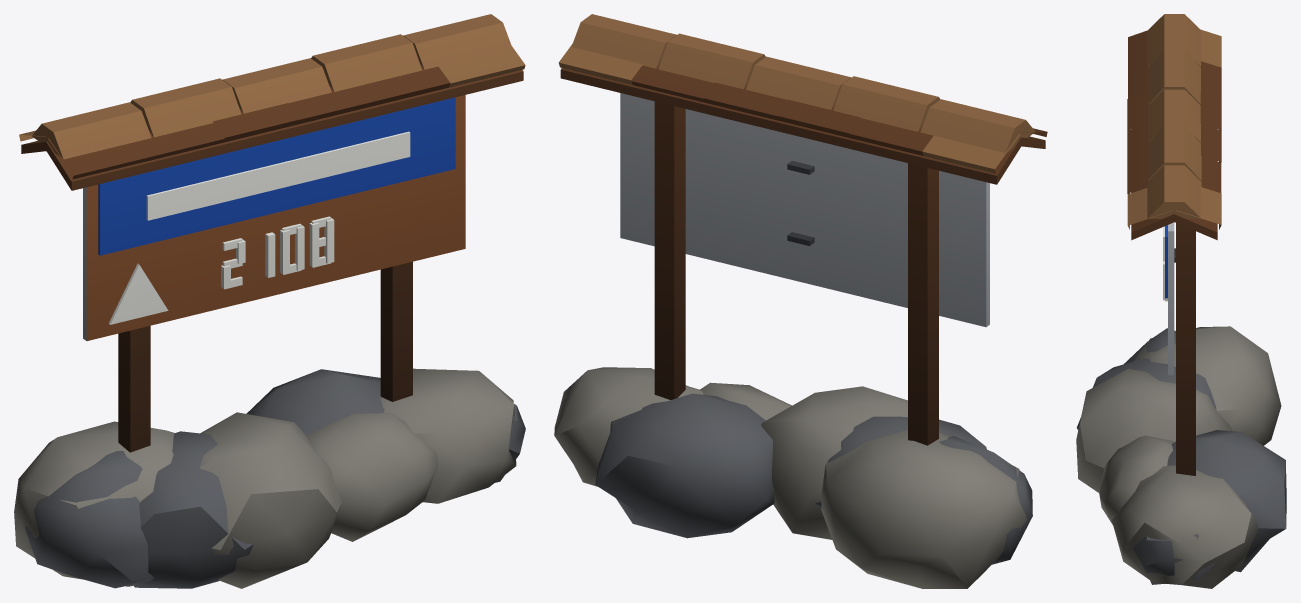
Rendered from Pass_Sign.fbx.
3 renders of one model, left to right at view 1: azimuth 30°, elevation 25°; view 2: azimuth 150°, elevation 25°; view 3: azimuth 270°, elevation 25°, orthographic. The views are drawn at different scales.
Parts seen in each view (by area): view 1: Pass_Sign_LOD0; view 2: Pass_Sign_LOD0; view 3: Pass_Sign_LOD0.
Boxes of the visible parts, left/top/right/bottom form: Pass_Sign_LOD0: left=14, top=14, right=525, bottom=588; Pass_Sign_LOD0: left=554, top=14, right=1047, bottom=588; Pass_Sign_LOD0: left=1076, top=14, right=1286, bottom=588.
Size of what is drawn, in the model's own units: 3.29 by 3.18 by 1.46.
1 material, 1 textured.
